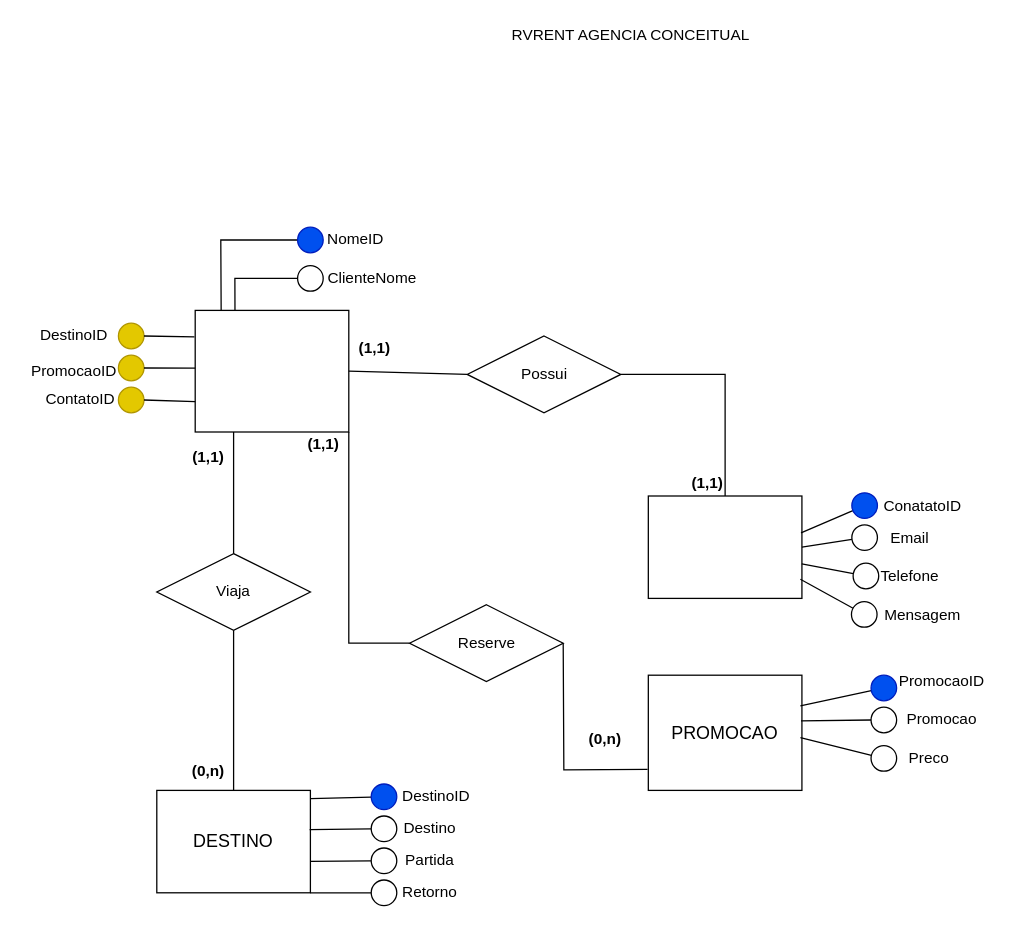
This 1014x928 diagram has some shape labels left out. The shapes that lost their labels are listed below. From the top down, each one's centre as x and y in pixels, then its label:
At point (271, 370): "HOME".
At point (724, 546): "CONTATO".
